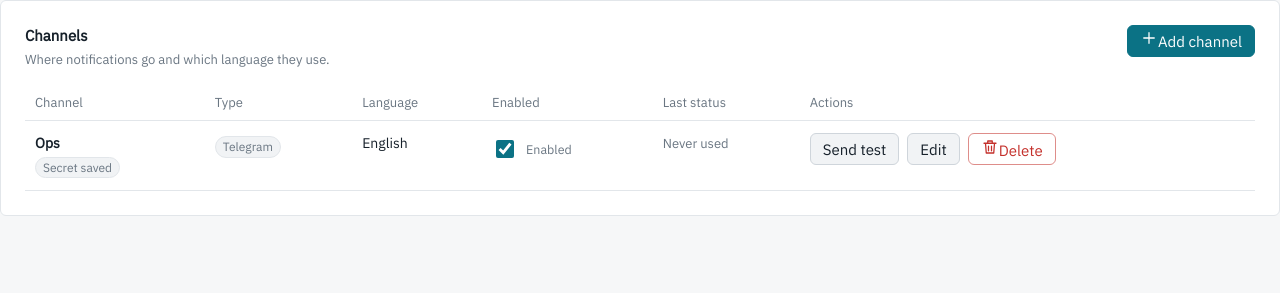
Test: alert settings › shows a successful and a failed send test
The width and height of the screenshot is (1280, 293).
Step 1. Click the button "Send test" → point(854, 149), box top-left (810, 133), bottom-right (899, 165)
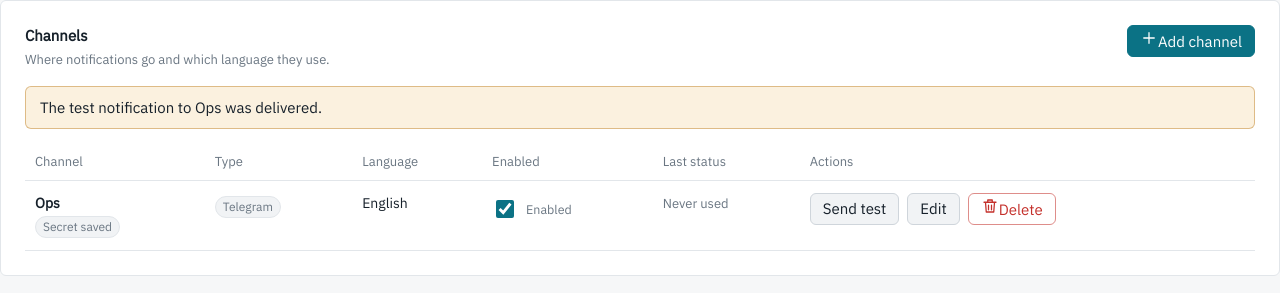
Expected: the text "The test notification to Ops was delivered." is shown, top-left (25, 86), bottom-right (1255, 129)
Step 2. Click the button "Send test" → point(854, 209), box top-left (810, 193), bottom-right (899, 225)
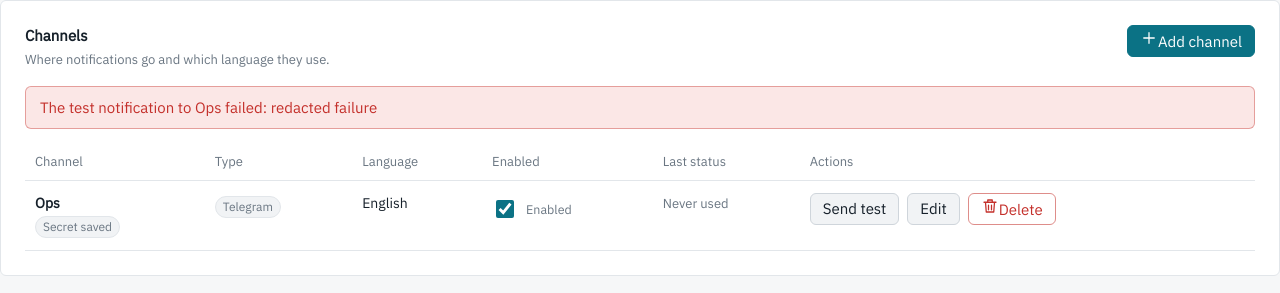
Expected: the text "The test notification to Ops failed: redacted failure" is shown, top-left (25, 86), bottom-right (1255, 129)
